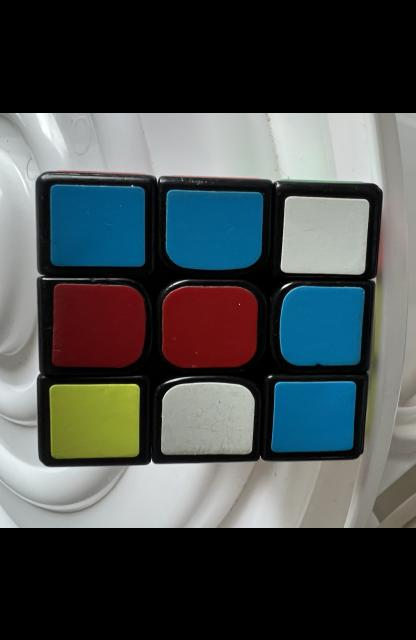Blue: (50, 184, 146, 266), (166, 189, 263, 269), (279, 284, 364, 364), (270, 380, 357, 451)
Red: (52, 282, 147, 367), (162, 285, 258, 367)
White: (160, 381, 256, 454), (280, 195, 369, 273)
Yellow: (49, 383, 140, 458)
